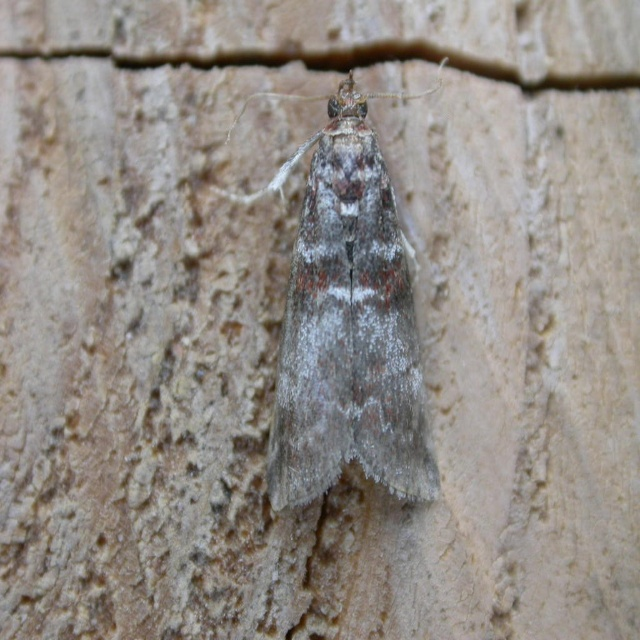Moths and butterflies: (208, 55, 452, 515)
